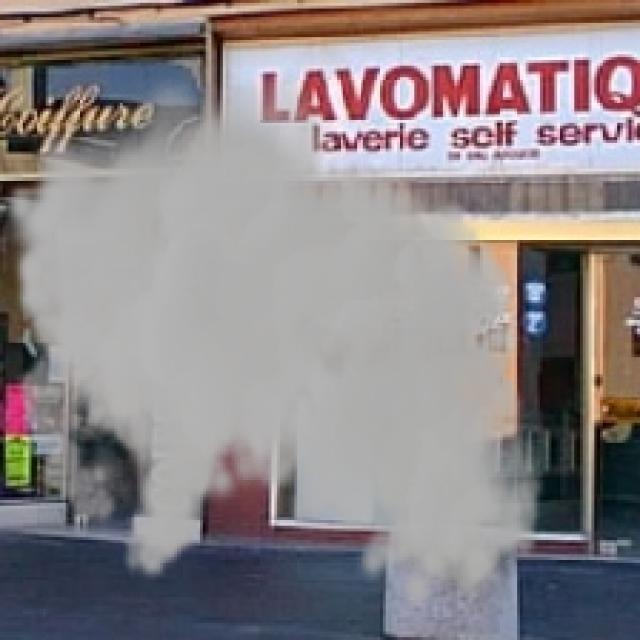smoke: (0, 57, 546, 614)
